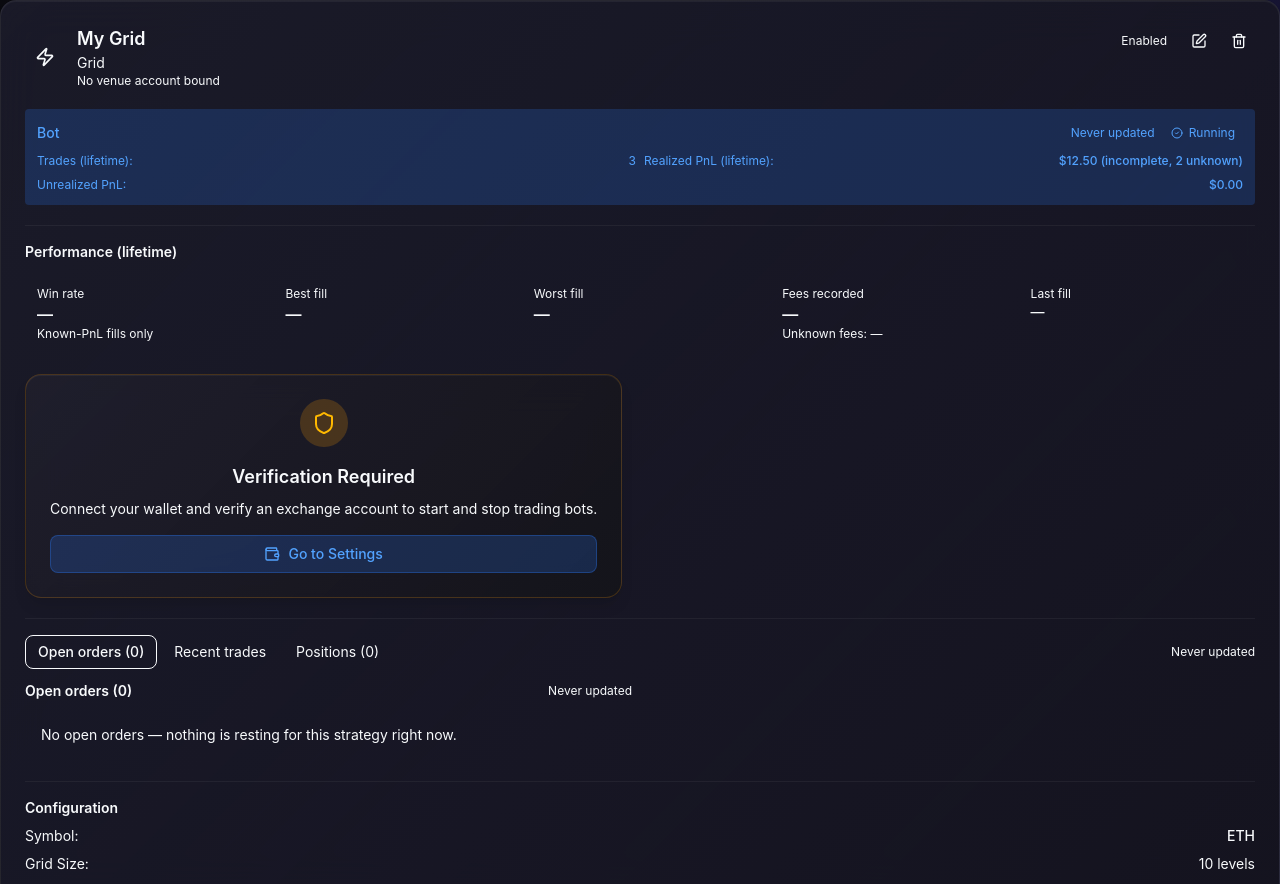
StrategyWorkspace › trades tab with no fills reports the honest empty state
Click the tab "Recent trades". click: (220, 652)
box: x1=161 y1=635 x2=279 y2=669
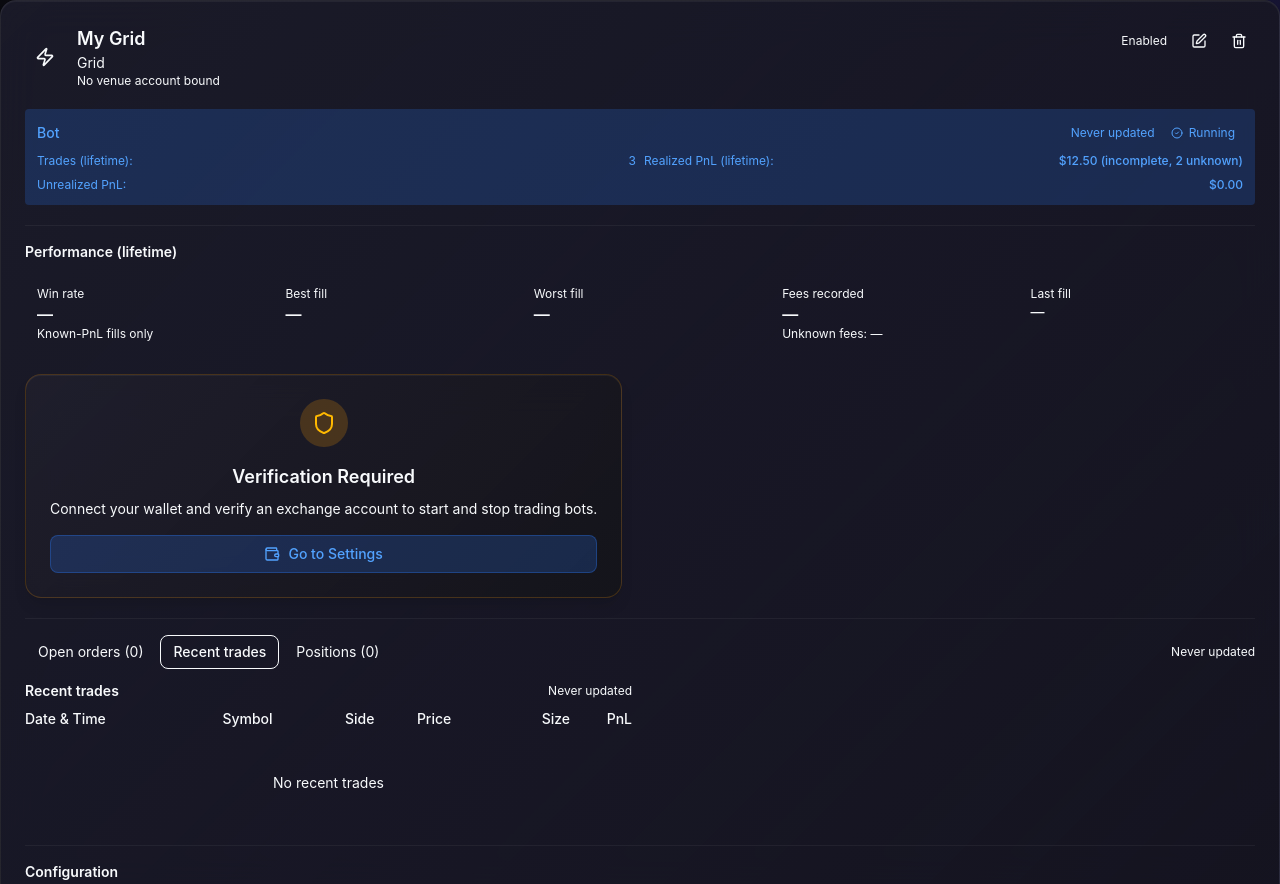
Expected: the text "No recent trades" is shown, x1=273 y1=774 x2=384 y2=791
